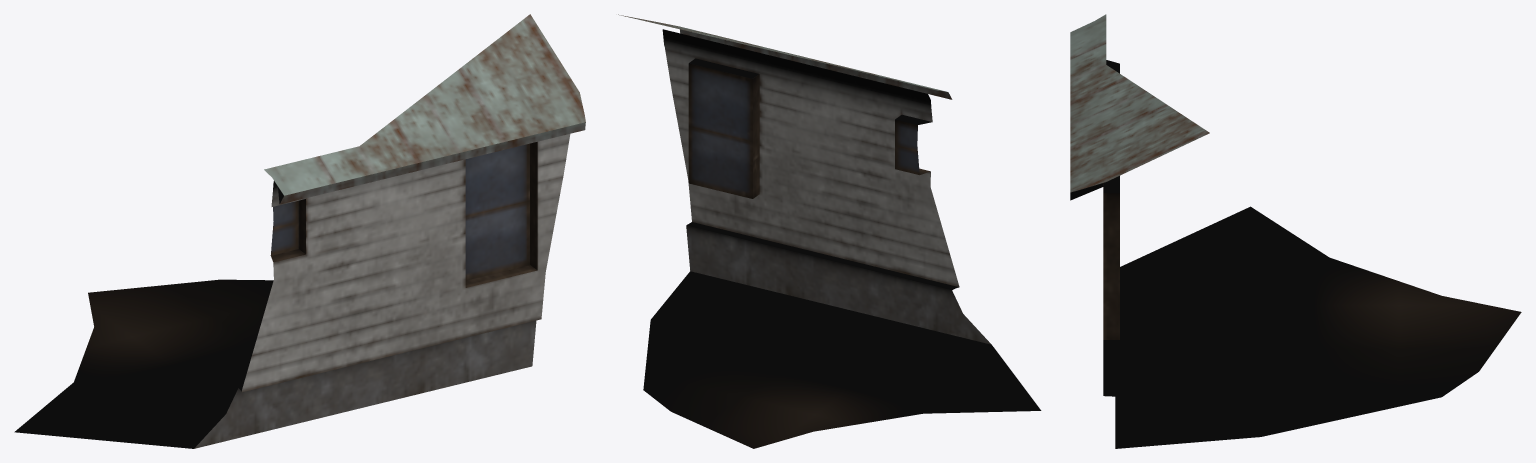
Rendered from House_02_03.fbx.
3 views of the same model, side by side, from view 1: azimuth 30°, elevation 25°; view 2: azimuth 150°, elevation 25°; view 3: azimuth 270°, elevation 25° (orthographic). The views are drawn at different scales.
Parts seen in each view (by area): view 1: Object001.006; view 2: Object001.006; view 3: Object001.006.
Boxes of the visible parts, box(x1,y1,x2,y2) form: Object001.006: box(14, 14, 585, 448); Object001.006: box(618, 14, 1041, 448); Object001.006: box(1070, 14, 1521, 448).
Bounding box in the file's own units: 10.41 × 6.18 × 7.49.
1 material, 1 textured.
